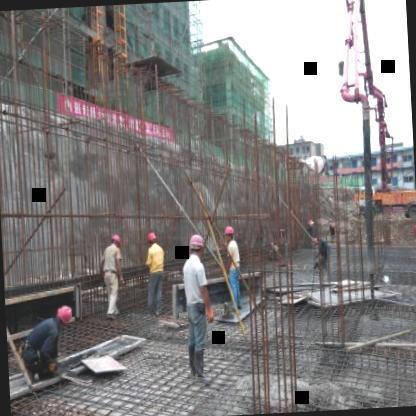helmet: (188, 230, 204, 258), (55, 301, 73, 325), (223, 223, 235, 242), (109, 232, 122, 248), (146, 230, 157, 245)
